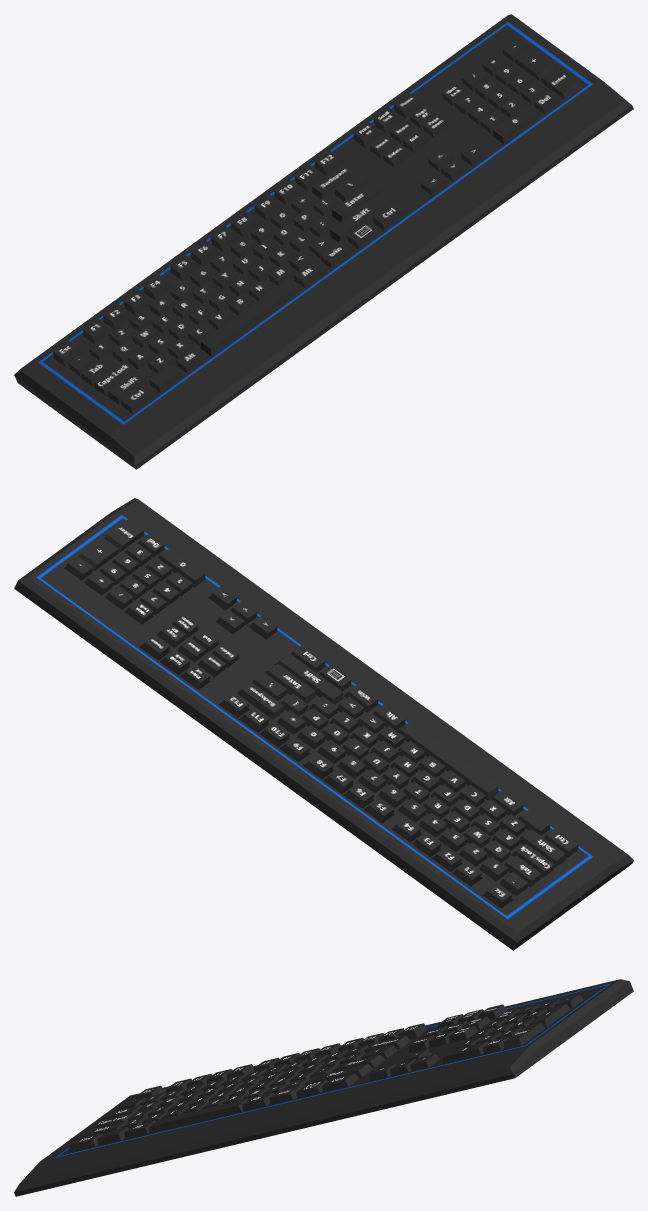
Rendered from Keyboard.gltf.
3 views of the same model, one above another, from view 1: azimuth 30°, elevation 25°; view 2: azimuth 150°, elevation 25°; view 3: azimuth 330°, elevation 25° (orthographic).
Visible parts, largest first — view 1: node-0; view 2: node-0; view 3: node-0.
Boxes of the visible parts, x1,y1,x2,y2 form: node-0: (14, 14, 633, 469); node-0: (14, 498, 633, 950); node-0: (14, 979, 633, 1196).
Size of the model in its own units: 0.3798 by 0.1817 by 0.1553.
Materials: 1 (1 with a texture image).
